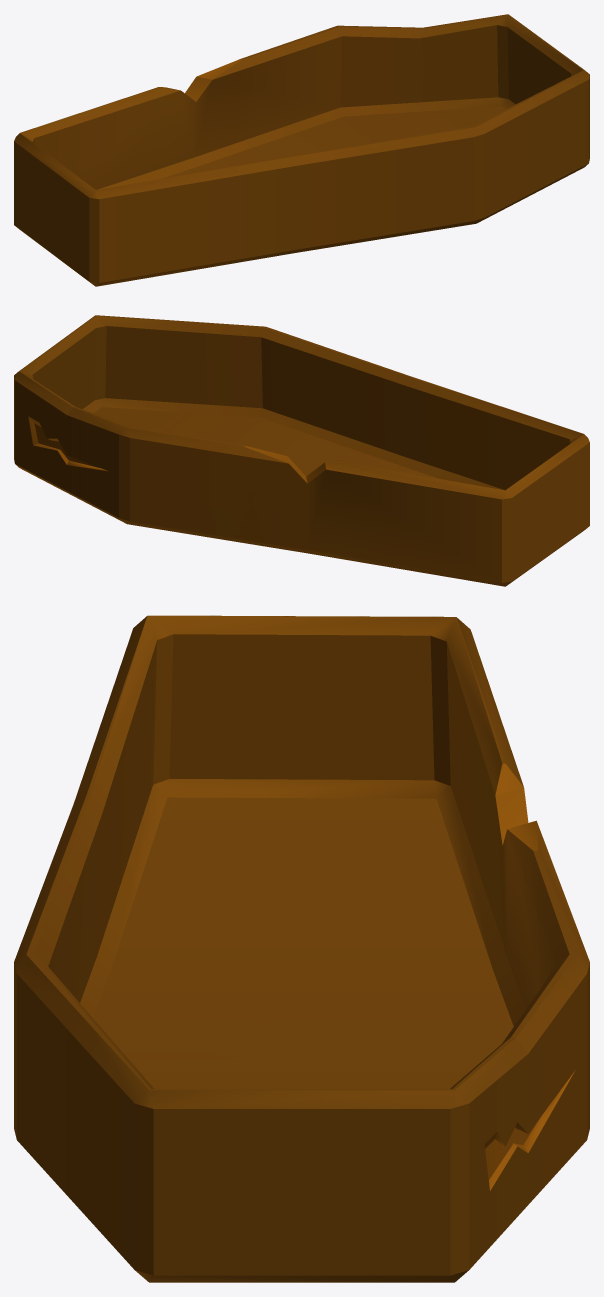
File: Cofin_1_3.obj
3 renders of one model, top to bottom at view 1: azimuth 30°, elevation 25°; view 2: azimuth 150°, elevation 25°; view 3: azimuth 270°, elevation 25°, orthographic. The views are drawn at different scales.
Visible parts, largest first — view 1: Cofin_1_3; view 2: Cofin_1_3; view 3: Cofin_1_3.
Part boxes in pixels (bbox=[...]): Cofin_1_3: bbox=[14, 14, 589, 286]; Cofin_1_3: bbox=[14, 315, 589, 586]; Cofin_1_3: bbox=[14, 615, 589, 1282].
Size of the model in its own units: 1.32 by 0.2435 by 0.6612.
